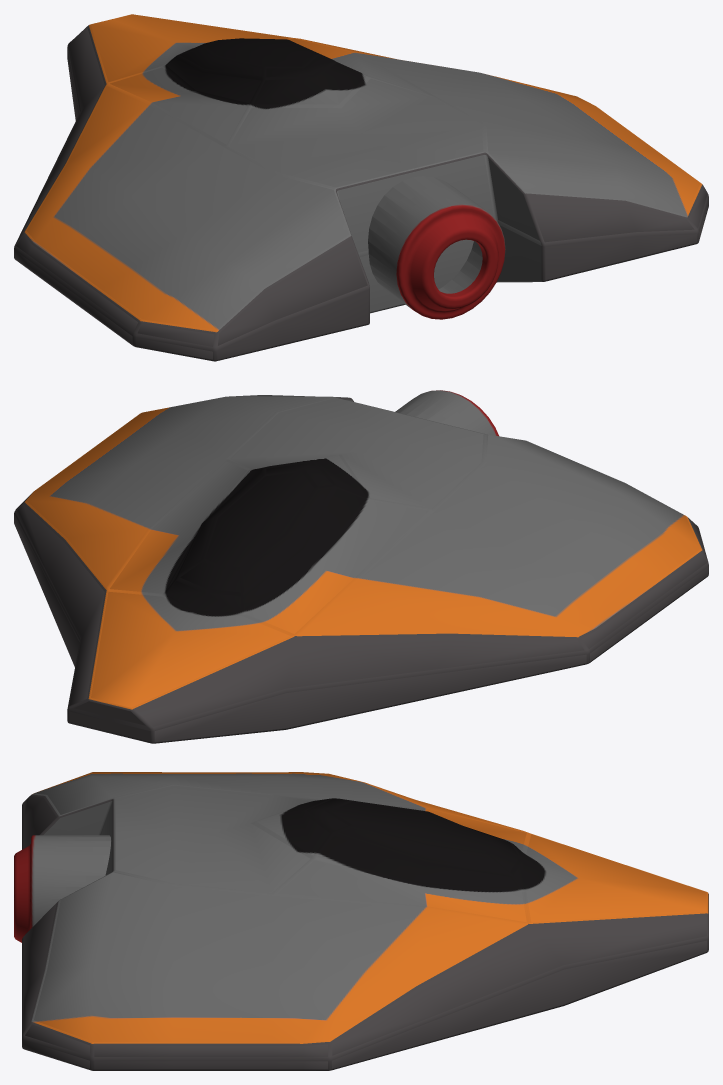
Rendered from nave7.fbx.
The picture shows the model from 3 angles, top to bottom: view 1: azimuth 30°, elevation 25°; view 2: azimuth 150°, elevation 25°; view 3: azimuth 270°, elevation 25°; orthographic projection.
Parts seen in each view (by area): view 1: nave2; view 2: nave2; view 3: nave2.
Part boxes in pixels (box(x1,y1,x2,y2)): nave2: box(14, 14, 708, 361); nave2: box(14, 390, 708, 743); nave2: box(14, 772, 708, 1070).
Size of the model in its own units: 18722 by 4594 by 19783.
